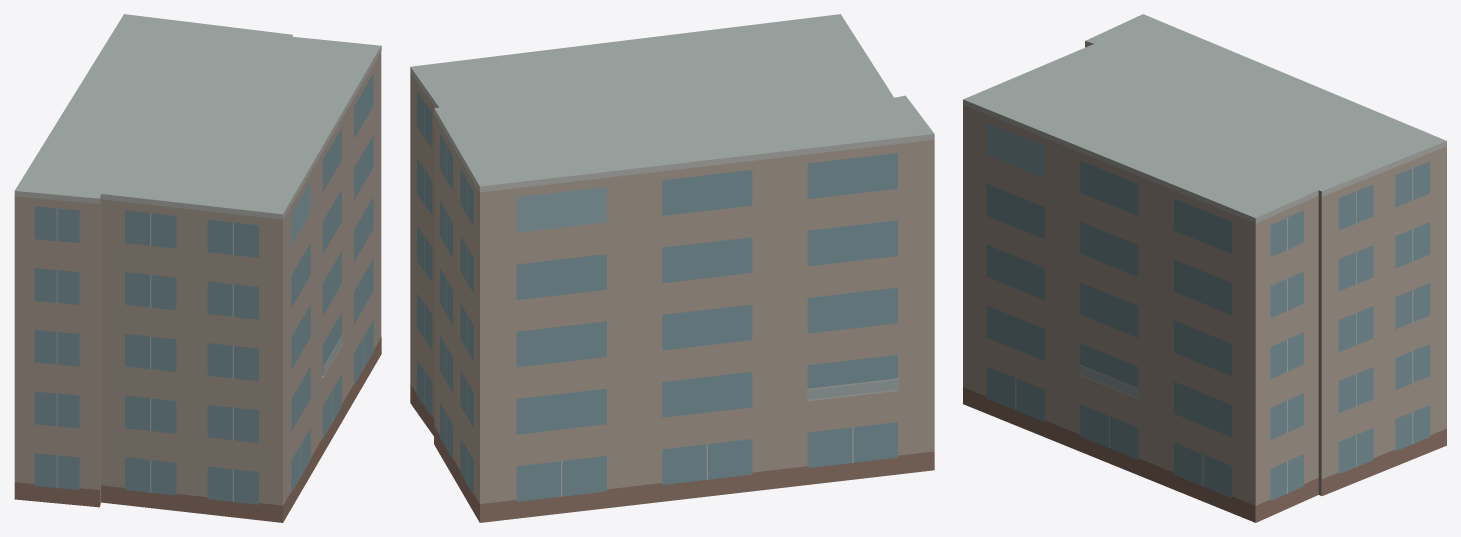
Rendered from survey-upis-32593065.glb.
3 renders of one model, left to right at view 1: azimuth 30°, elevation 25°; view 2: azimuth 150°, elevation 25°; view 3: azimuth 270°, elevation 25°, orthographic. The views are drawn at different scales.
Visible parts, largest first — view 1: survey-upis-32593065.tmp; view 2: survey-upis-32593065.tmp; view 3: survey-upis-32593065.tmp.
Part boxes in pixels (x1,y1,x2,y2): survey-upis-32593065.tmp: [14, 14, 381, 522]; survey-upis-32593065.tmp: [410, 14, 934, 522]; survey-upis-32593065.tmp: [963, 14, 1446, 522].
Size of the model in its own units: 20.14 by 14 by 20.16.
